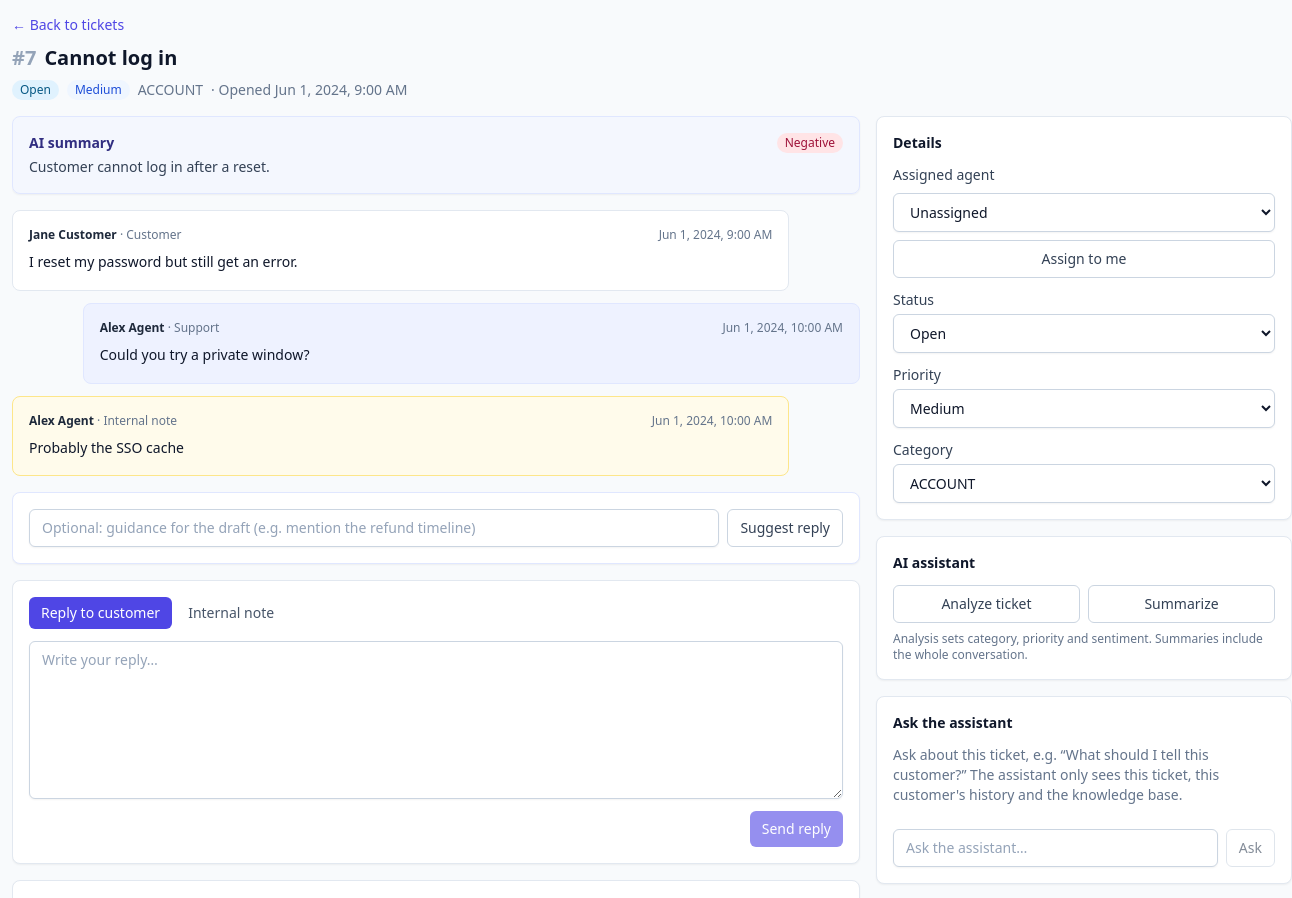
TicketDetailPage for agents › adds an internal note
This screenshot has width=1292, height=898.
Expected: the heading "#7Cannot log in" is shown, [12,44,177,71]
Click the tab "Internal note" at (231, 613), box [176,597,286,629]
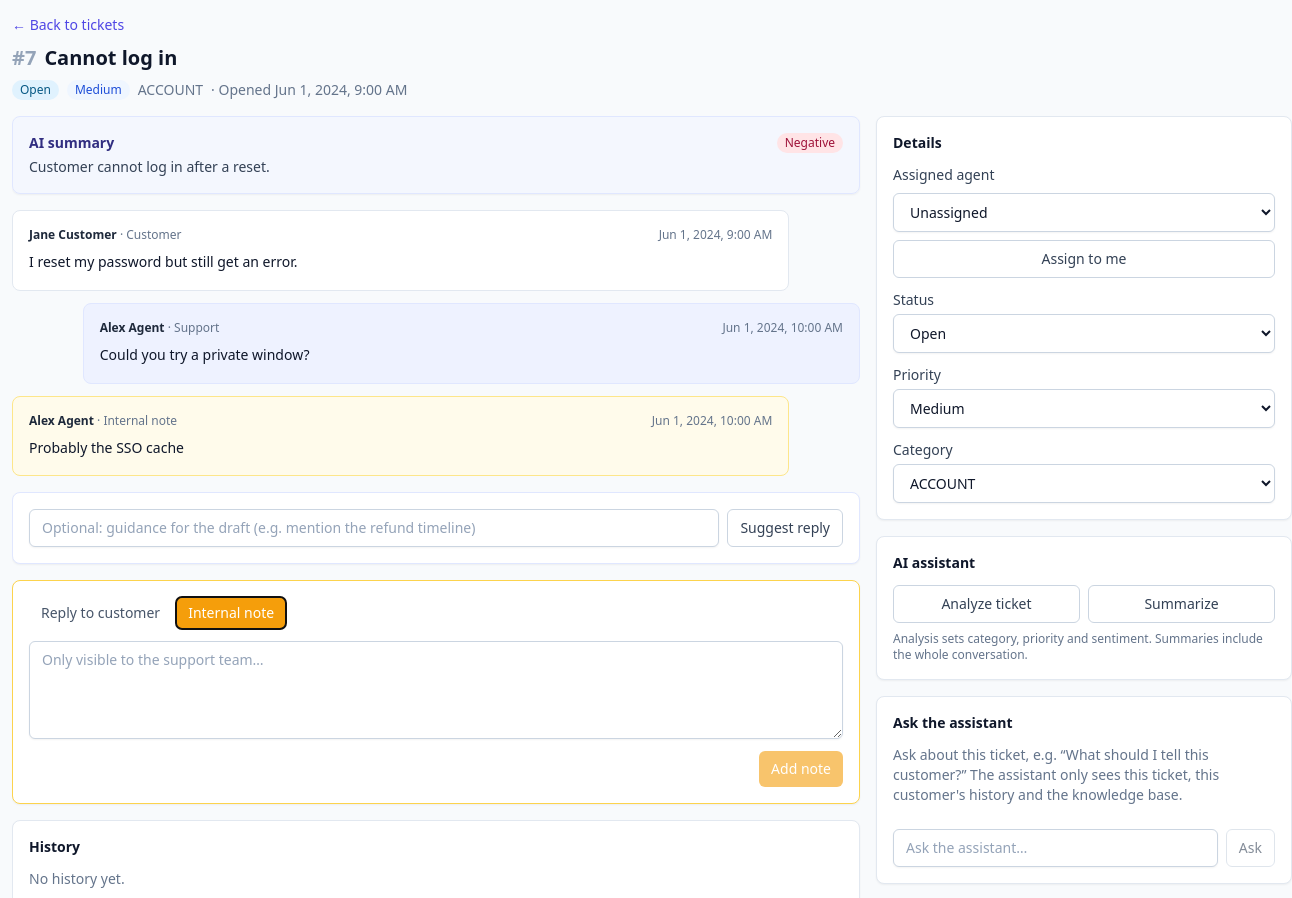
Type "Escalating to engineering" into the text box named "Internal note" at (436, 690), box [29,641,843,739]
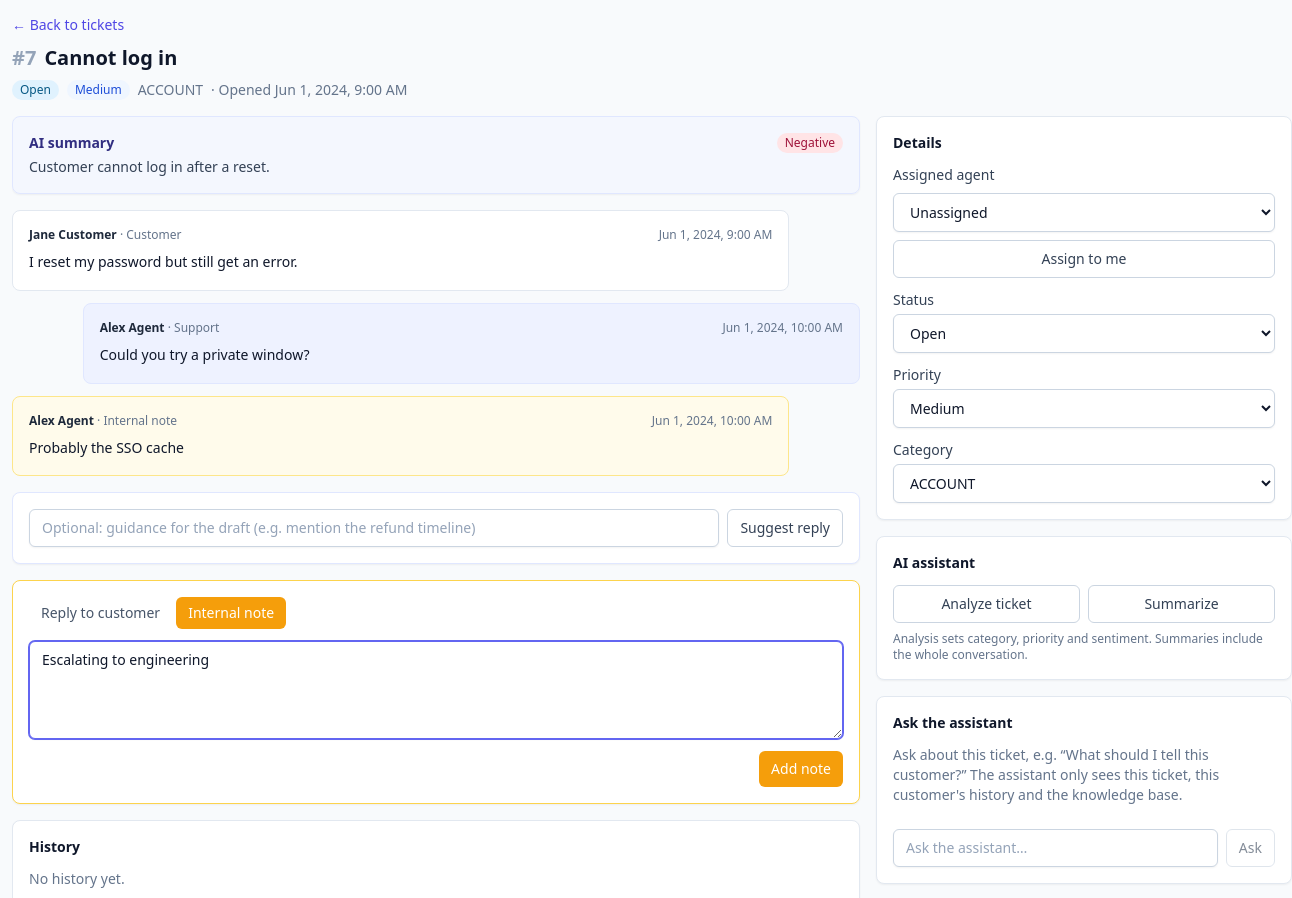
Click the button "Add note" at (801, 769), box [759,751,843,787]
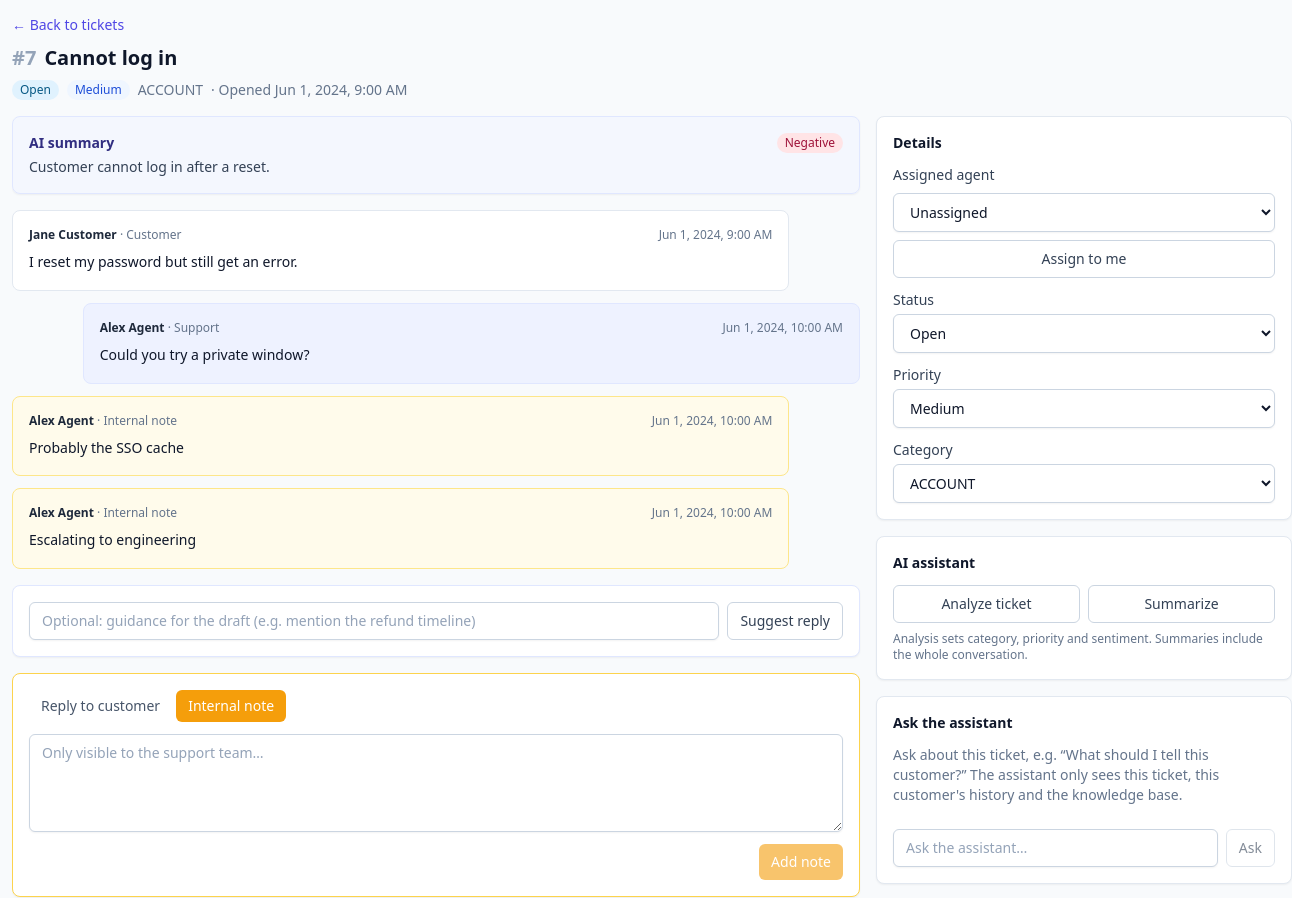
Now the number of list items with test id "internal-note" is 2, box [12,396,860,476]; [12,488,860,569]
